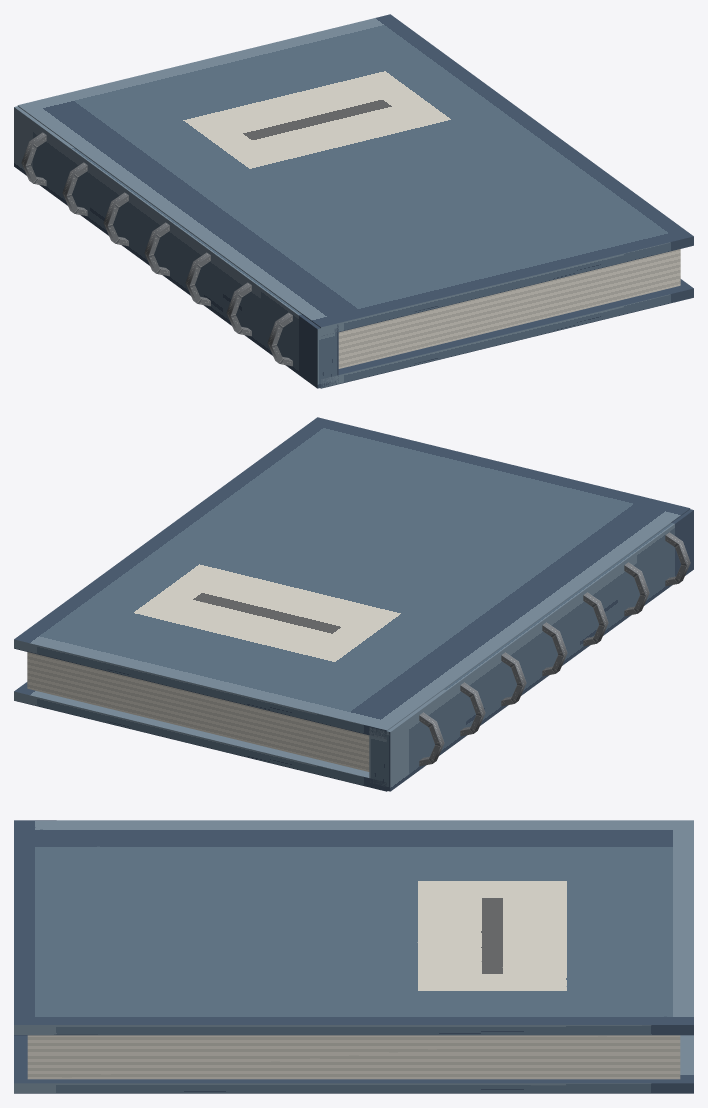
File: INV_Notebook.glb
The picture shows the model from 3 angles, top to bottom: view 1: azimuth 30°, elevation 25°; view 2: azimuth 150°, elevation 25°; view 3: azimuth 270°, elevation 25°; orthographic projection. The views are drawn at different scales.
Visible parts, largest first — view 1: INV_Notebook_Mesh; view 2: INV_Notebook_Mesh; view 3: INV_Notebook_Mesh.
Part boxes in pixels (<box>): INV_Notebook_Mesh: <box>14,14,693,388</box>; INV_Notebook_Mesh: <box>14,417,693,791</box>; INV_Notebook_Mesh: <box>14,820,693,1093</box>.
Size of what is drawn, in the model's own units: 0.112 by 0.0165 by 0.148.
Materials: 1 (1 with a texture image).
